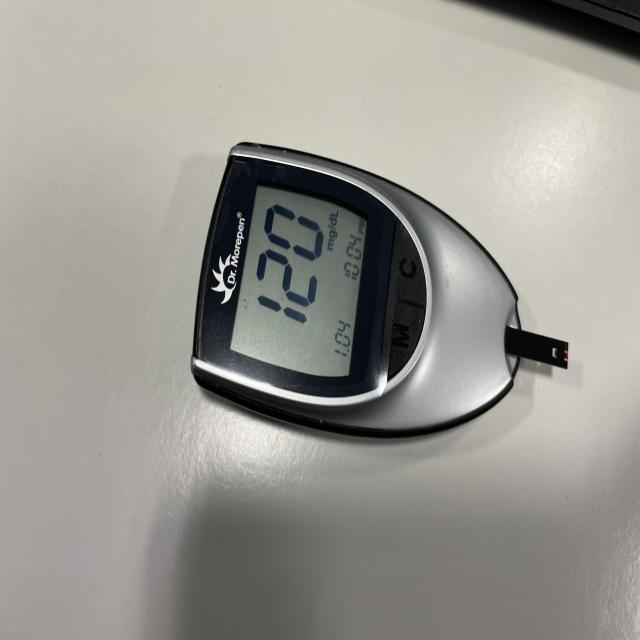gluco: (191, 143, 567, 442)
